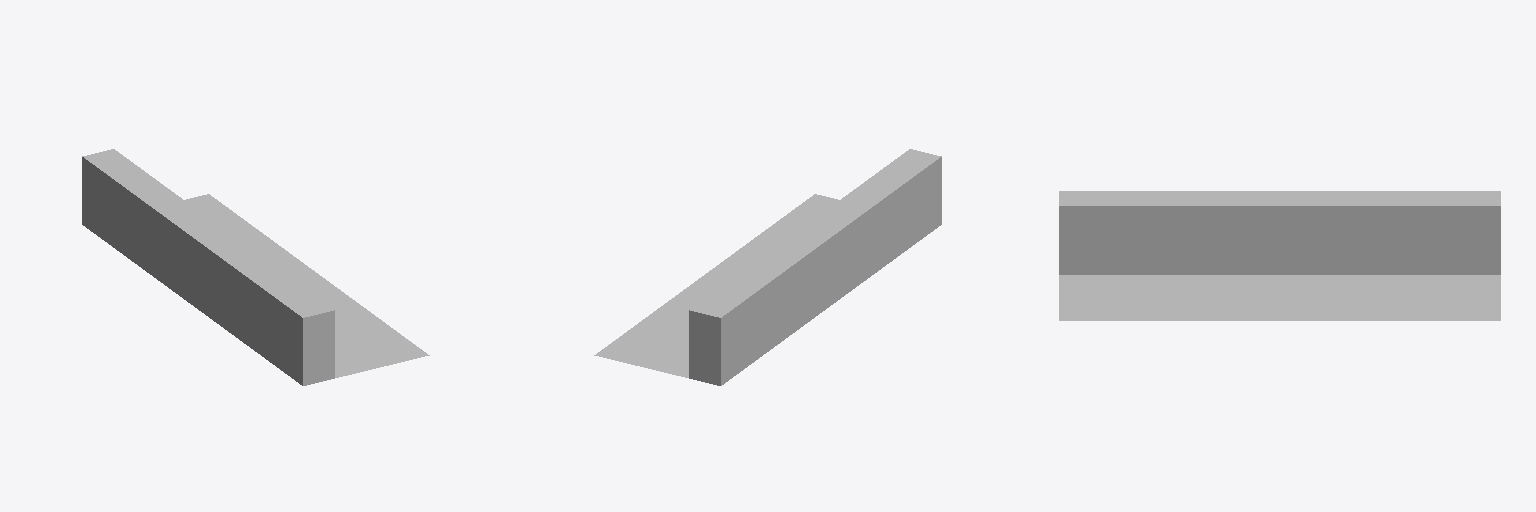
File: barric.mtl.obj
3 renders of one model, left to right at view 1: azimuth 30°, elevation 25°; view 2: azimuth 150°, elevation 25°; view 3: azimuth 270°, elevation 25°, orthographic.
Visible parts, largest first — view 1: Plane; view 2: Plane; view 3: Plane.
Boxes of the visible parts, box(x1,y1,x2,y2) form: Plane: box(82, 149, 429, 385); Plane: box(594, 149, 941, 385); Plane: box(1059, 191, 1500, 320).
Bounding box in the file's own units: 2 × 1.03 × 6.04.